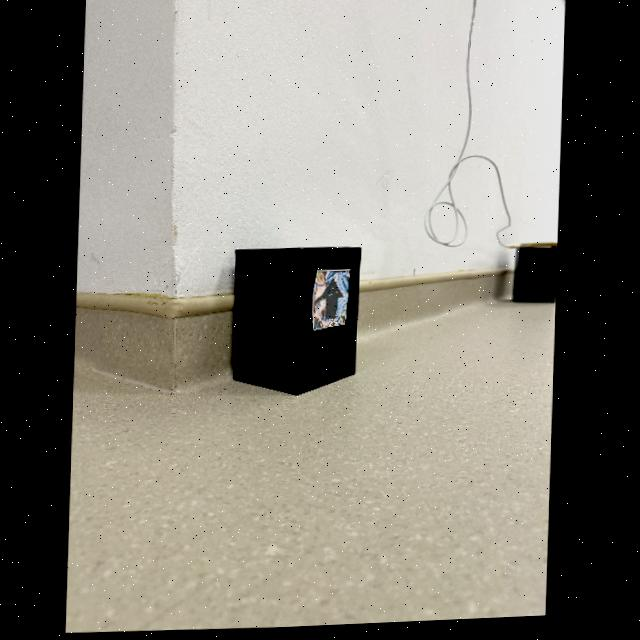UP: (319, 280, 345, 323)
